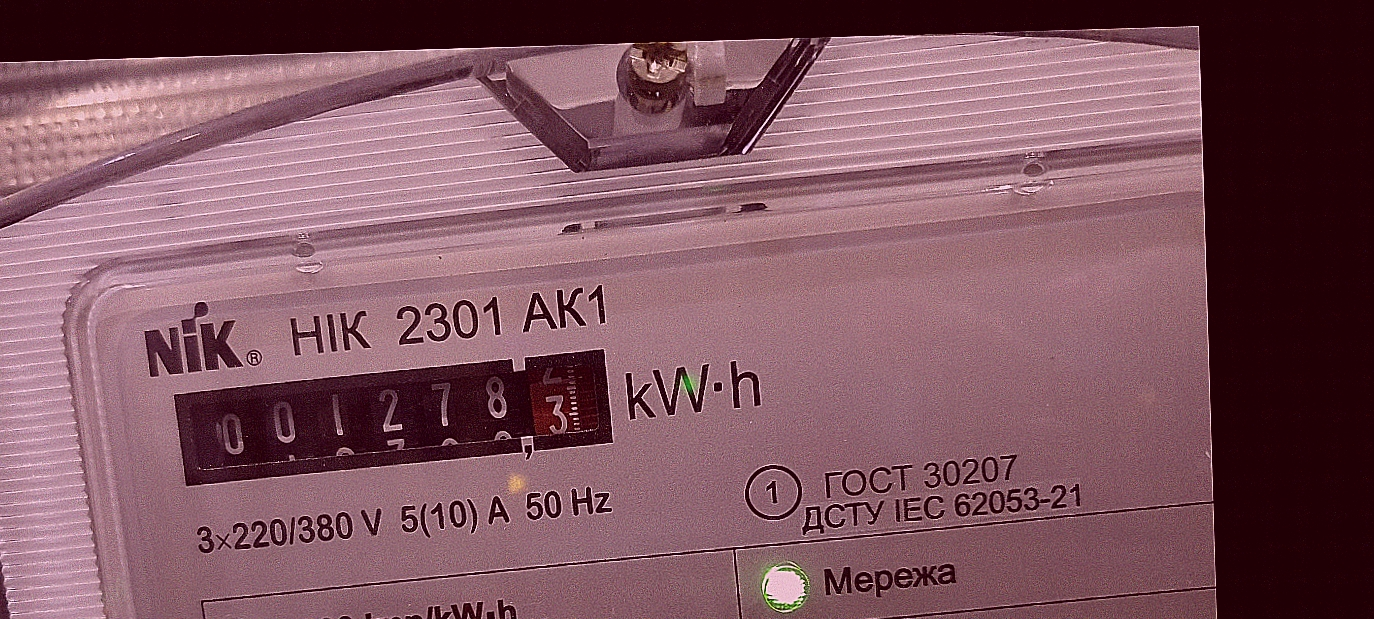0: (219, 408, 247, 457), (270, 398, 297, 445)
1: (327, 389, 347, 436)
2: (376, 386, 404, 434), (539, 365, 564, 385)
3: (542, 391, 570, 436)
7: (429, 380, 453, 427)
8: (484, 374, 509, 419)
screen: (158, 336, 631, 498)
